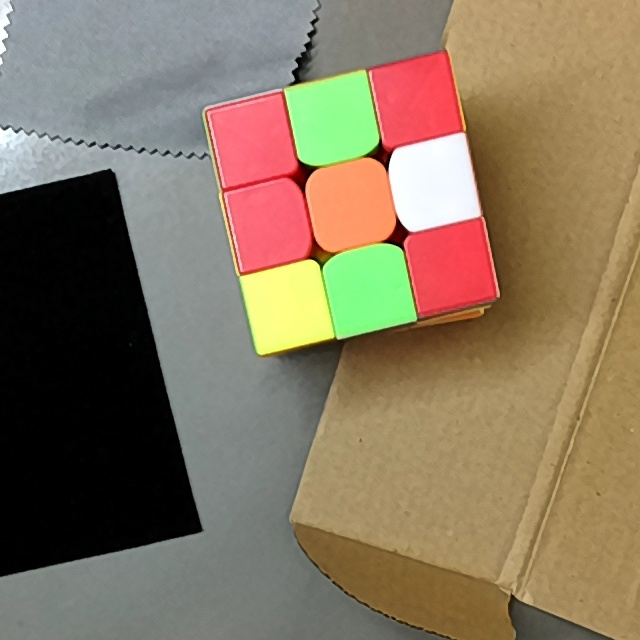tile: (401, 150, 467, 215), (238, 196, 301, 261), (301, 89, 365, 152), (219, 111, 285, 171), (336, 262, 402, 322), (423, 238, 486, 300), (385, 68, 446, 132), (322, 174, 383, 237), (257, 277, 319, 338)
